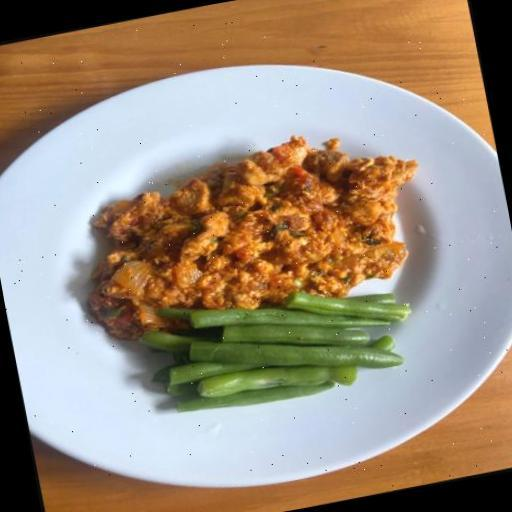buncis_rebus: (114, 272, 439, 434)
